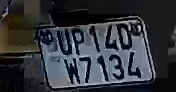1: (86, 26, 104, 53), (96, 56, 110, 82)
3: (107, 53, 125, 83)
4: (124, 50, 145, 78), (101, 23, 119, 52)
7: (79, 54, 93, 85)
D: (116, 23, 134, 50)
P: (71, 27, 87, 54)
U: (55, 28, 72, 57)
W: (63, 58, 82, 85)
